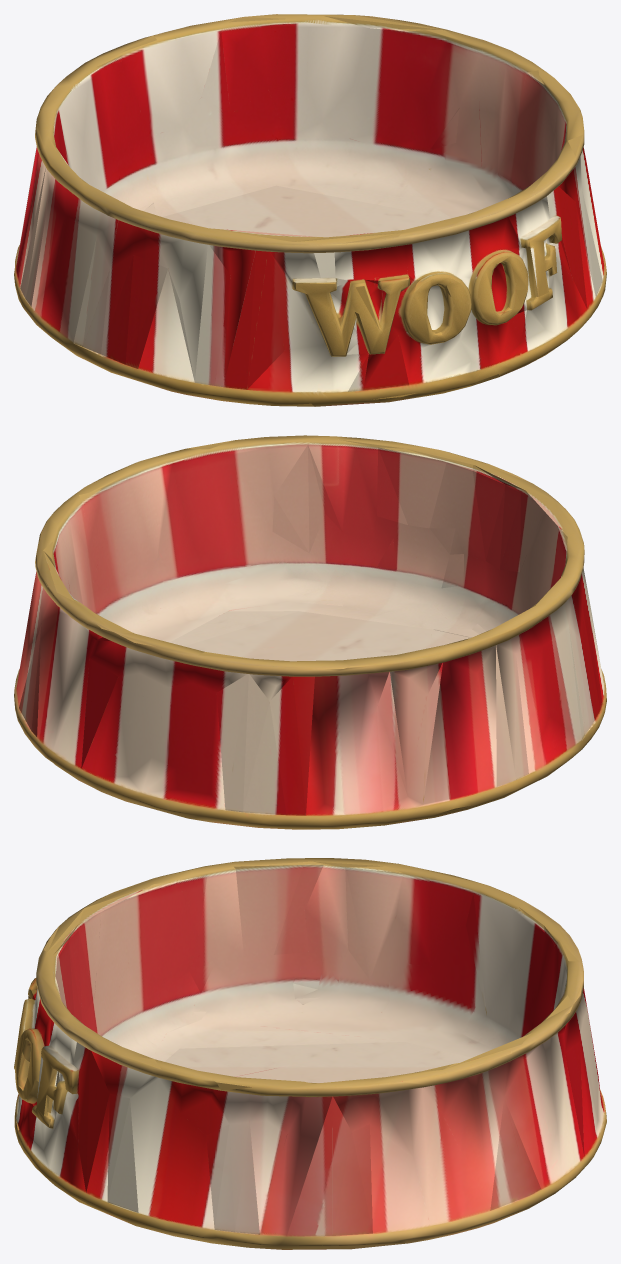
File: Gamelle.fbx
The picture shows the model from 3 angles, top to bottom: view 1: azimuth 30°, elevation 25°; view 2: azimuth 150°, elevation 25°; view 3: azimuth 270°, elevation 25°; orthographic projection.
Visible parts, largest first — view 1: output_unwrapped; view 2: output_unwrapped; view 3: output_unwrapped.
Part boxes in pixels (x1,y1,x2,y2): output_unwrapped: [14, 14, 606, 406]; output_unwrapped: [14, 435, 606, 829]; output_unwrapped: [14, 858, 606, 1249].
Size of the model in its own units: 190 by 55.87 by 190.
1 material, 1 textured.
